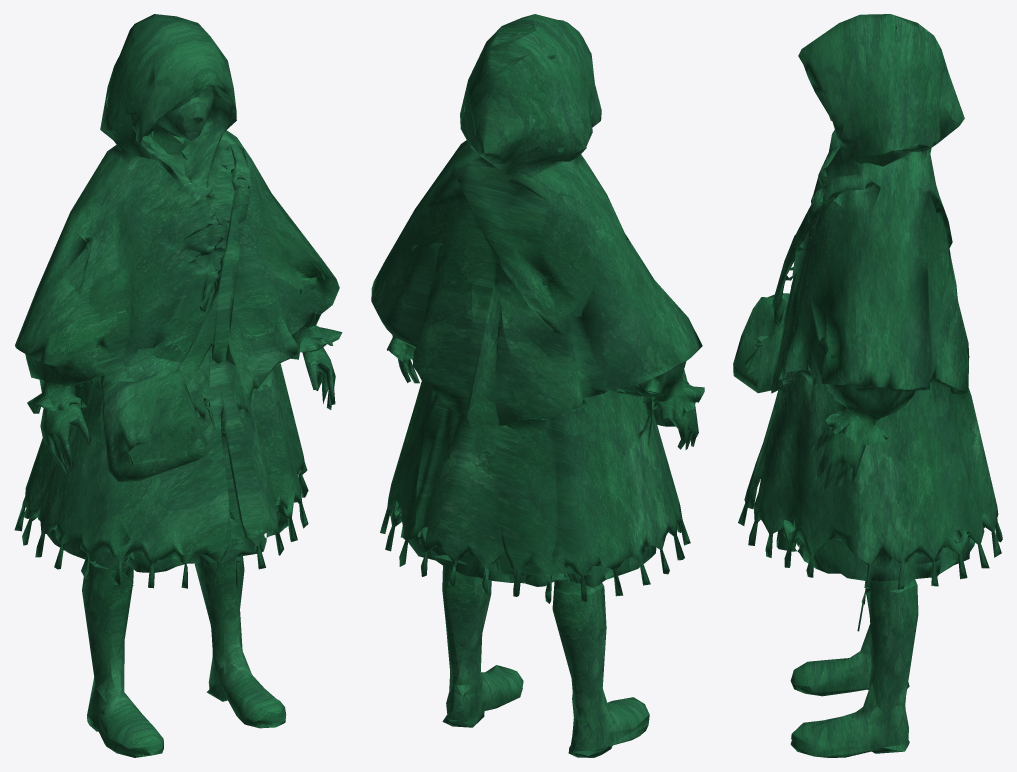
The model's file is SM_Aisemy_SavePoint.FBX.
3 views of the same model, side by side, from view 1: azimuth 30°, elevation 25°; view 2: azimuth 150°, elevation 25°; view 3: azimuth 270°, elevation 25° (orthographic). The views are drawn at different scales.
Parts seen in each view (by area): view 1: SM_Aisemy_SavePoint; view 2: SM_Aisemy_SavePoint; view 3: SM_Aisemy_SavePoint.
Boxes of the visible parts, x1,y1,x2,y2 form: SM_Aisemy_SavePoint: (14, 14, 342, 757); SM_Aisemy_SavePoint: (371, 14, 704, 757); SM_Aisemy_SavePoint: (733, 14, 1002, 757).
Size of the model in its own units: 69.03 by 148 by 51.71.
